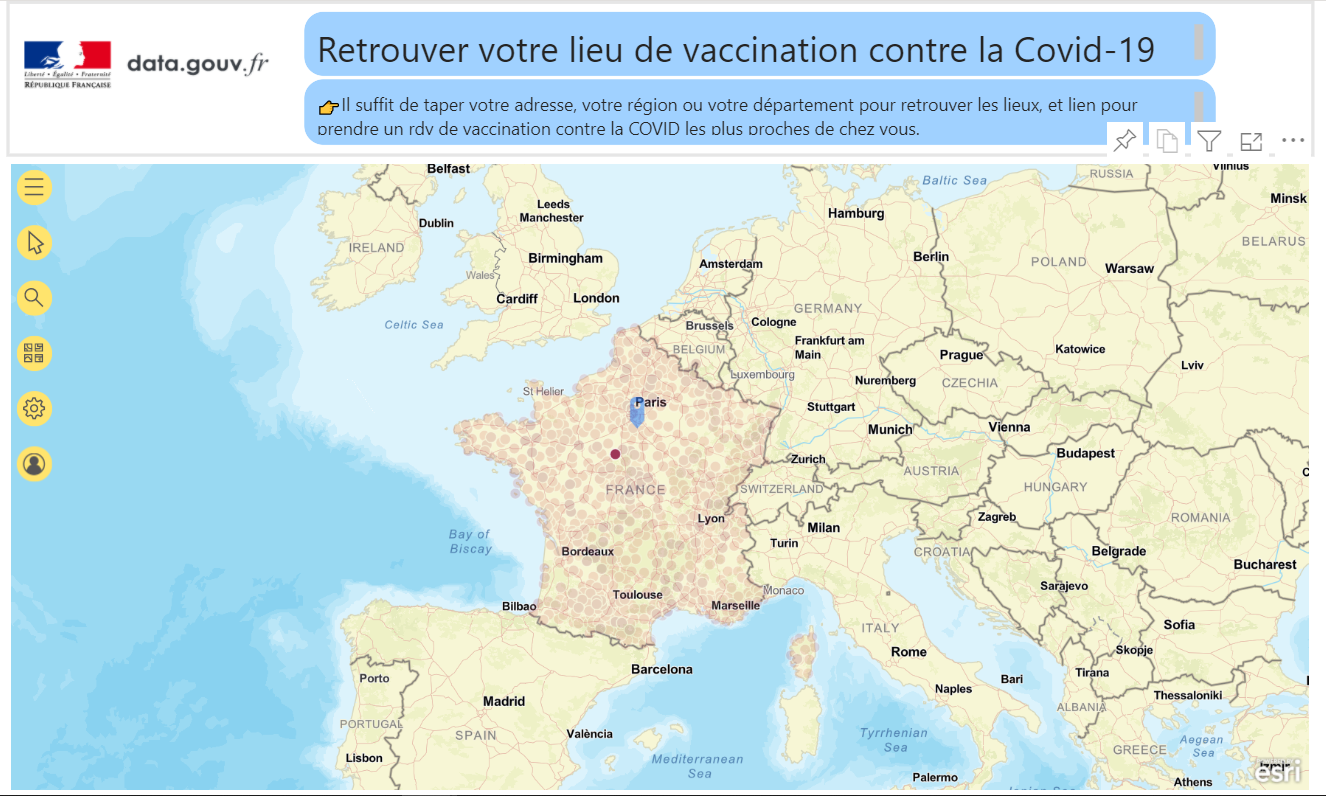

What the dashboard file says about the page in this screenshot:
{"tool":"powerbi","page":{"name":"Page 1","canvas":[1280,720],"ordinal":0},"visuals":[{"type":"esriVisual","fields":{"Longitude":["centres-vaccination.long_coor1"],"Latitude":["centres-vaccination.lat_coor1"]},"box":[422.4,153.6,506.9,412.8],"z":0}]}

Visuals, with their boxes on the page's 1280x720 design canvas (x1, y1, x2, y2). These are canvas units, not pixel positions in the 1326x796 screenshot, which may show the page scaled, cropped or inside an application window:
esriVisual - centres-vaccination.long_coor1 x centres-vaccination.lat_coor1: [422, 154, 929, 566]
